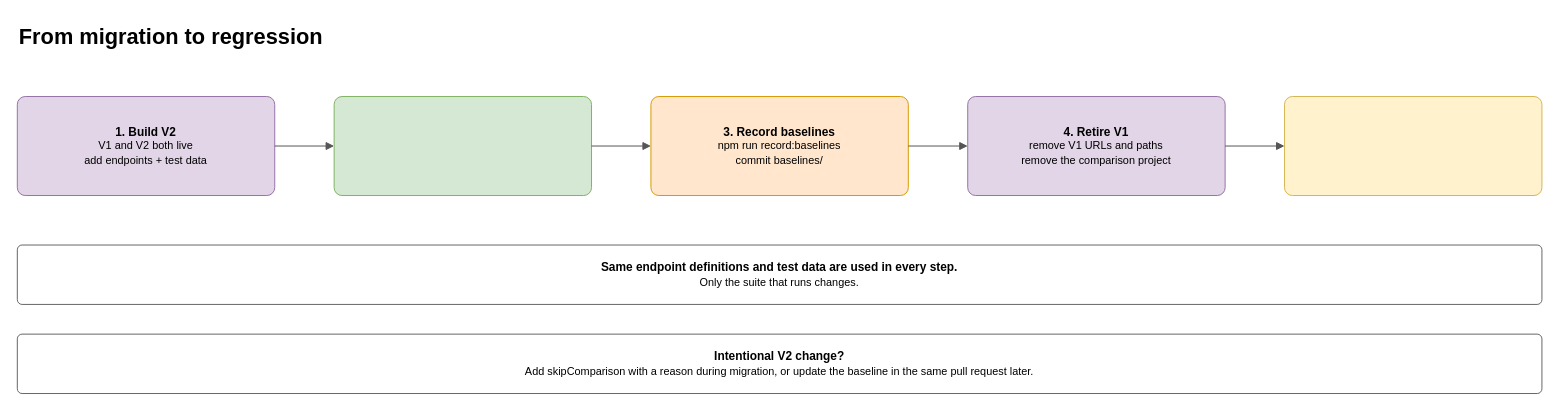
The diagram is 1559 pixels wide and 411 high, and some of its shapes have lost their labels. Each missing label, with the centre of its shape:
2. Compare npm run test:compare fix V2 until V1 = V2: [462,146]
5. V2 regression npm run test:regression in pipelines after each deploy: [1413,146]
